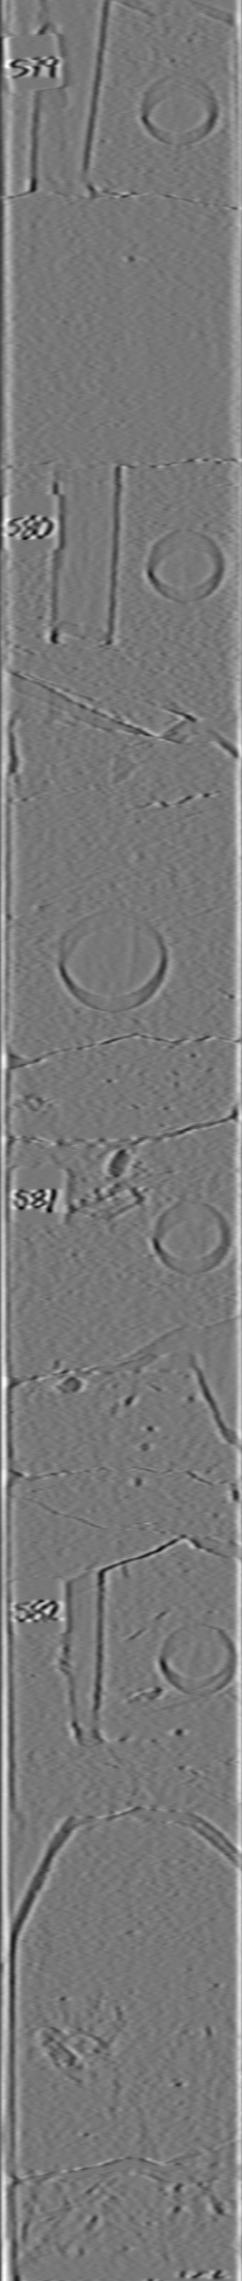hplug: (144, 1194, 241, 1285), (150, 1615, 241, 1703), (140, 522, 229, 608), (133, 68, 226, 150)
scal: (52, 898, 171, 1020)
vplug: (19, 1, 118, 196), (39, 457, 125, 652), (47, 1565, 115, 1750)
